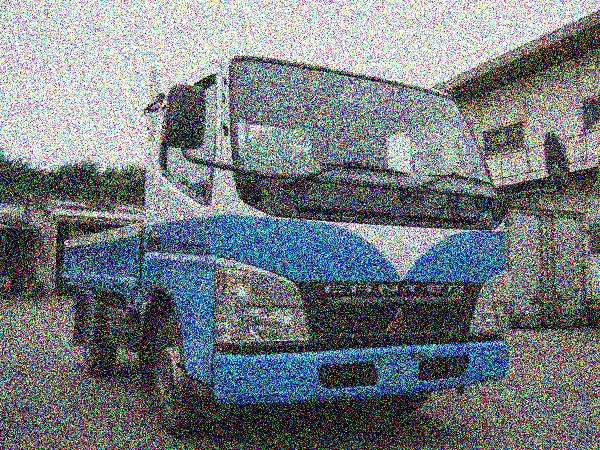truck: (63, 55, 511, 440)
